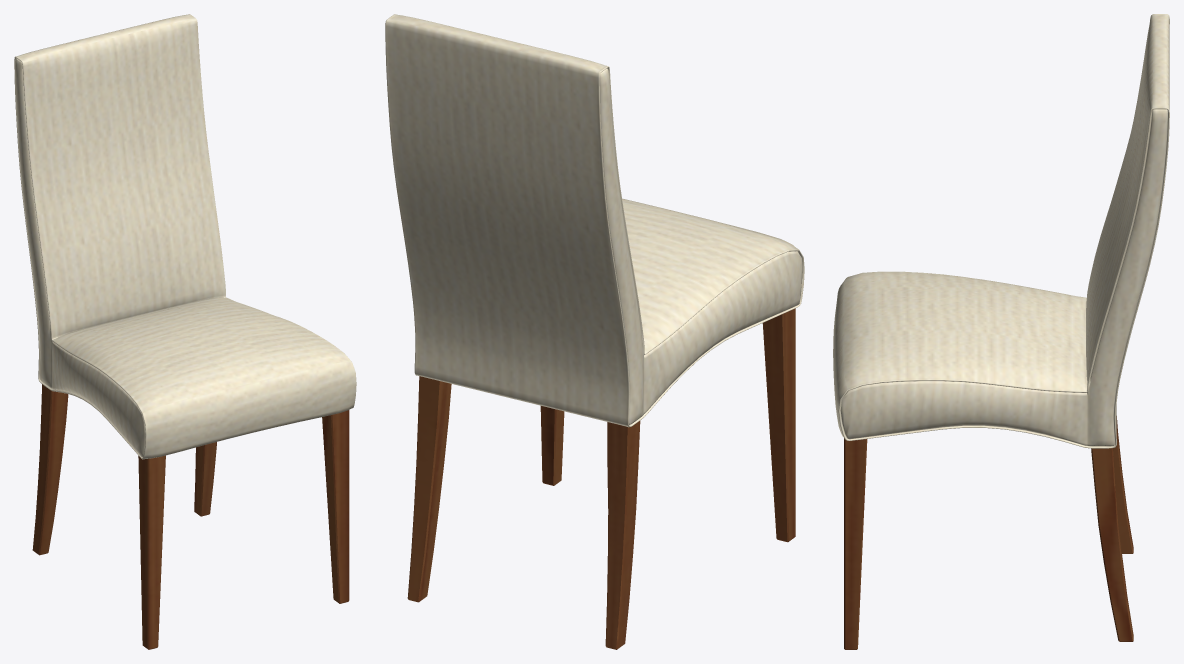
File: catalani_high.FBX
3 renders of one model, left to right at view 1: azimuth 30°, elevation 25°; view 2: azimuth 150°, elevation 25°; view 3: azimuth 270°, elevation 25°, orthographic. The views are drawn at different scales.
Visible parts, largest first — view 1: cattelan_italia_cindy; view 2: cattelan_italia_cindy; view 3: cattelan_italia_cindy.
Boxes of the visible parts, x1,y1,x2,y2 form: cattelan_italia_cindy: (14, 14, 356, 649); cattelan_italia_cindy: (385, 14, 804, 649); cattelan_italia_cindy: (833, 14, 1169, 649).
Size of the model in its own units: 44 by 95.66 by 54.28.
2 materials, 2 textured.
